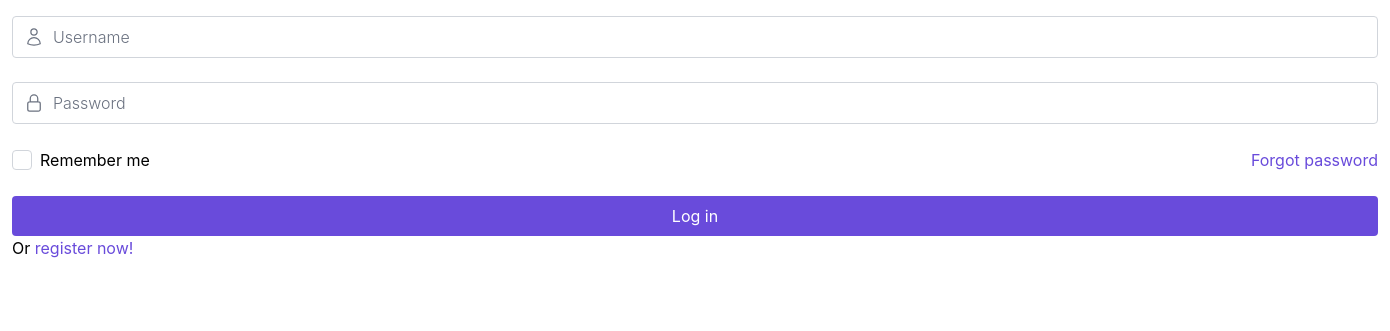
ensure login form render well › should show require error messages for username field
Click the button "Log in" at (695, 216), box [12,196,1378,236]
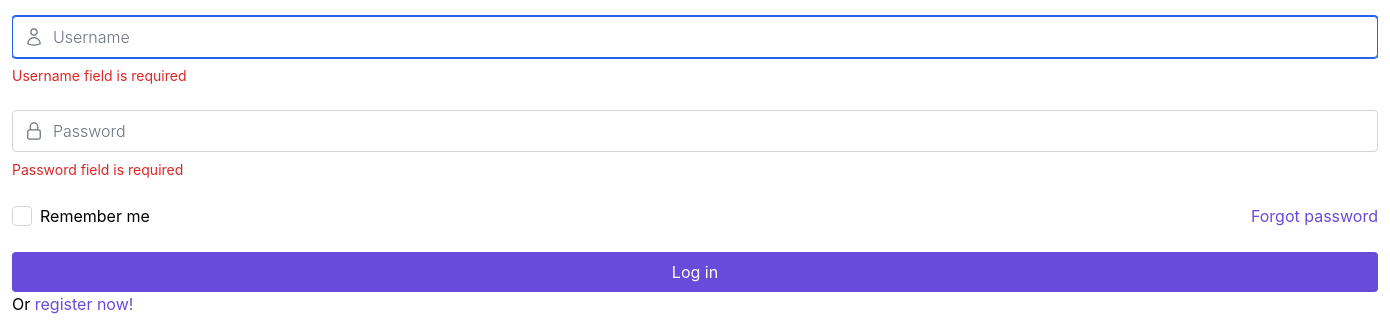
Expected: the text "Username field is required" is shown, [12,67,186,84]
